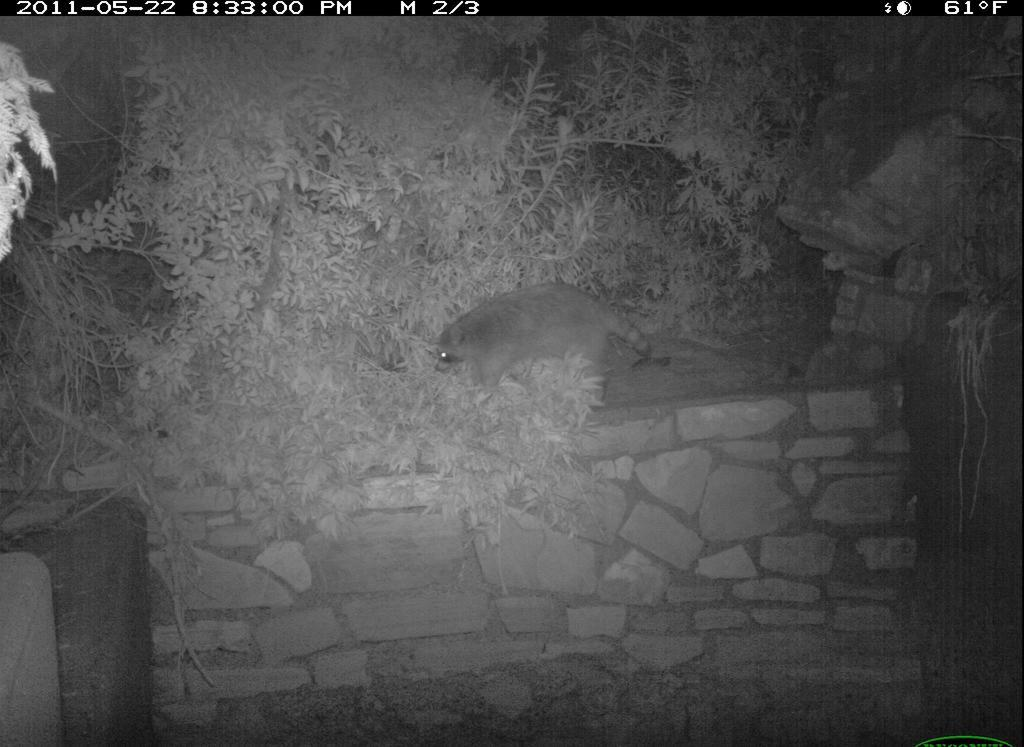raccoon: (427, 277, 660, 411)
